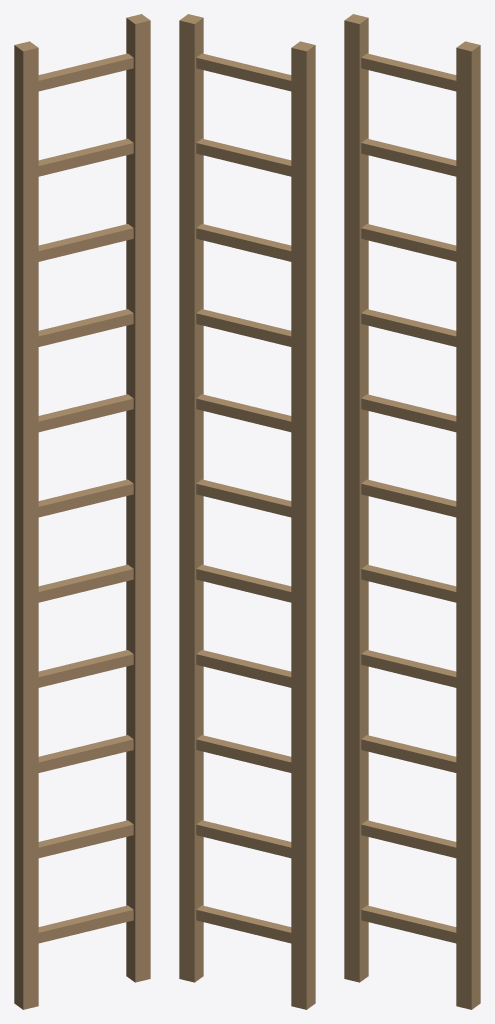
Rendered from ladder.glb.
The picture shows the model from 3 angles, left to right: view 1: azimuth 30°, elevation 25°; view 2: azimuth 150°, elevation 25°; view 3: azimuth 330°, elevation 25°; orthographic projection.
Parts seen in each view (by area): view 1: Ladder; view 2: Ladder; view 3: Ladder.
Part boxes in pixels (box(x1,y1,x2,y2)): Ladder: box(14, 14, 150, 1009); Ladder: box(179, 14, 315, 1009); Ladder: box(344, 14, 480, 1009).
Bounding box in the file's own units: 0.5 × 3.6 × 0.06.
